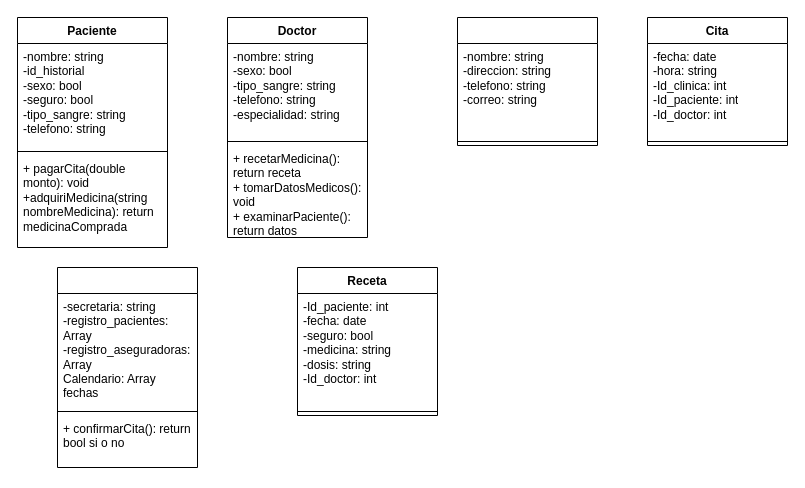
Image size: 805x488. Some labels were removed from this diagram. Here are the shapes that lost their labels. From the top down, the box of each, then its label:
(456, 16, 598, 146): Clinica
(56, 266, 198, 468): Recepción
